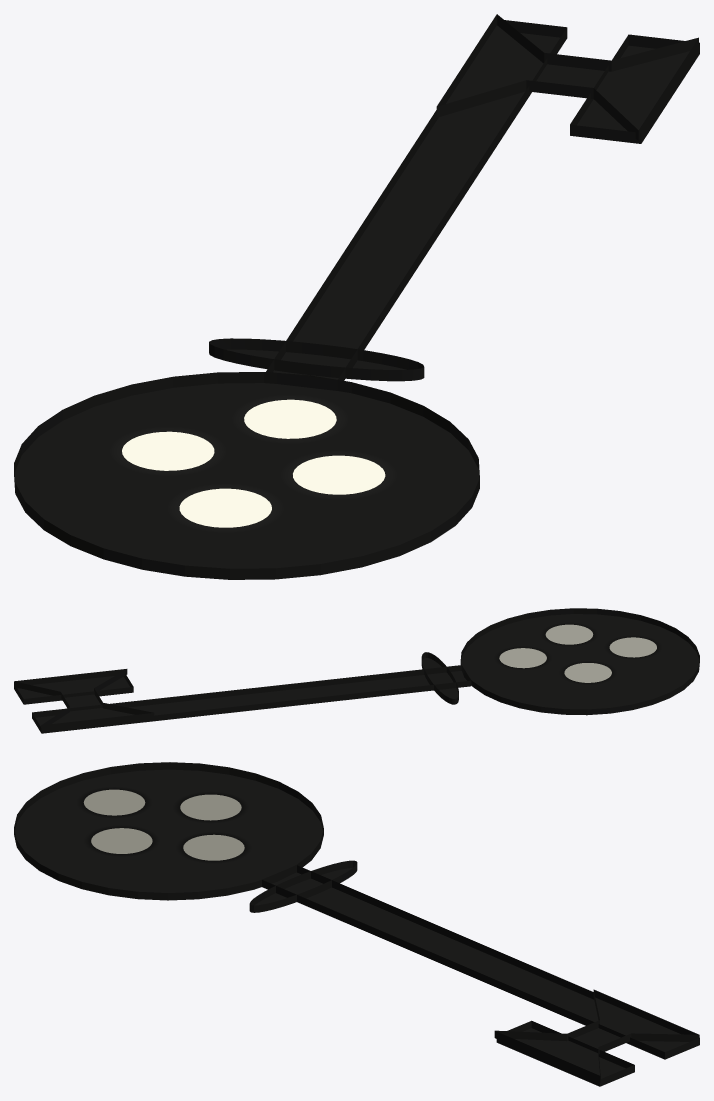
Rendered from llave.obj.
The picture shows the model from 3 angles, top to bottom: view 1: azimuth 30°, elevation 25°; view 2: azimuth 150°, elevation 25°; view 3: azimuth 270°, elevation 25°; orthographic projection. The views are drawn at different scales.
Visible parts, largest first — view 1: Plane.059; view 2: Plane.059; view 3: Plane.059.
Part boxes in pixels (box(x1,y1,x2,y2)): Plane.059: box(14, 14, 699, 579); Plane.059: box(14, 608, 699, 733); Plane.059: box(14, 762, 699, 1086).
Size of the model in its own units: 0.0544 by 0.000983 by 0.0497.
Materials: 2 (2 with a texture image).
